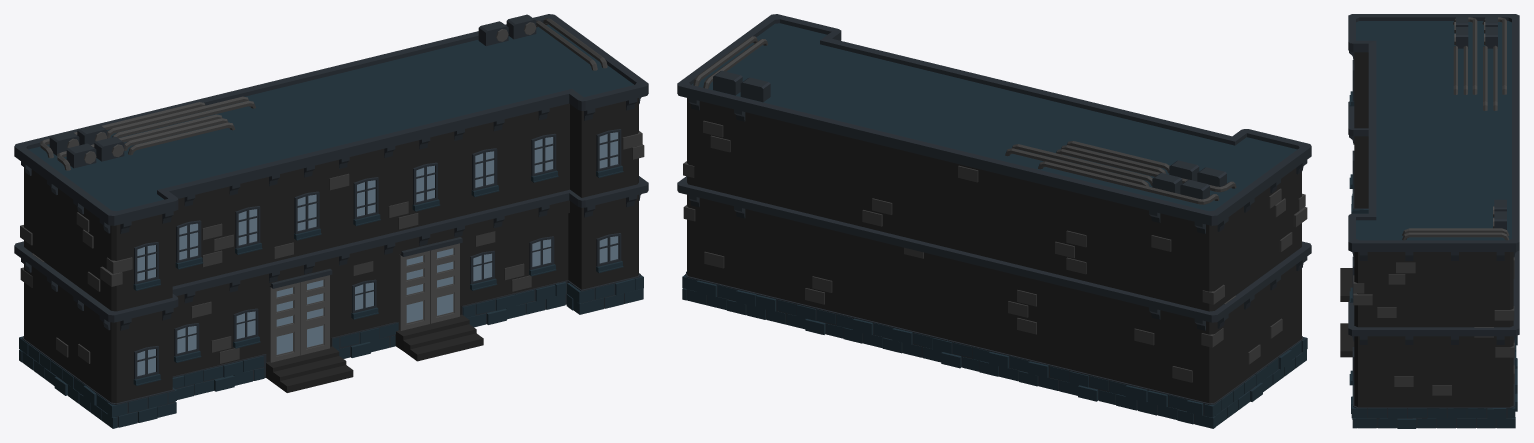
The model's file is 2Story_Wide_2Doors.glb.
3 renders of one model, left to right at view 1: azimuth 30°, elevation 25°; view 2: azimuth 150°, elevation 25°; view 3: azimuth 270°, elevation 25°, orthographic. The views are drawn at different scales.
Parts seen in each view (by area): view 1: 2Story_Wide_2Doors_Cube.037; view 2: 2Story_Wide_2Doors_Cube.037; view 3: 2Story_Wide_2Doors_Cube.037.
Boxes of the visible parts, box(x1,y1,x2,y2) form: 2Story_Wide_2Doors_Cube.037: box(14, 14, 648, 428); 2Story_Wide_2Doors_Cube.037: box(677, 14, 1311, 428); 2Story_Wide_2Doors_Cube.037: box(1340, 14, 1519, 428).
Bounding box in the file's own units: 6.83 × 2.75 × 2.26.
Materials: 1 (1 with a texture image).
